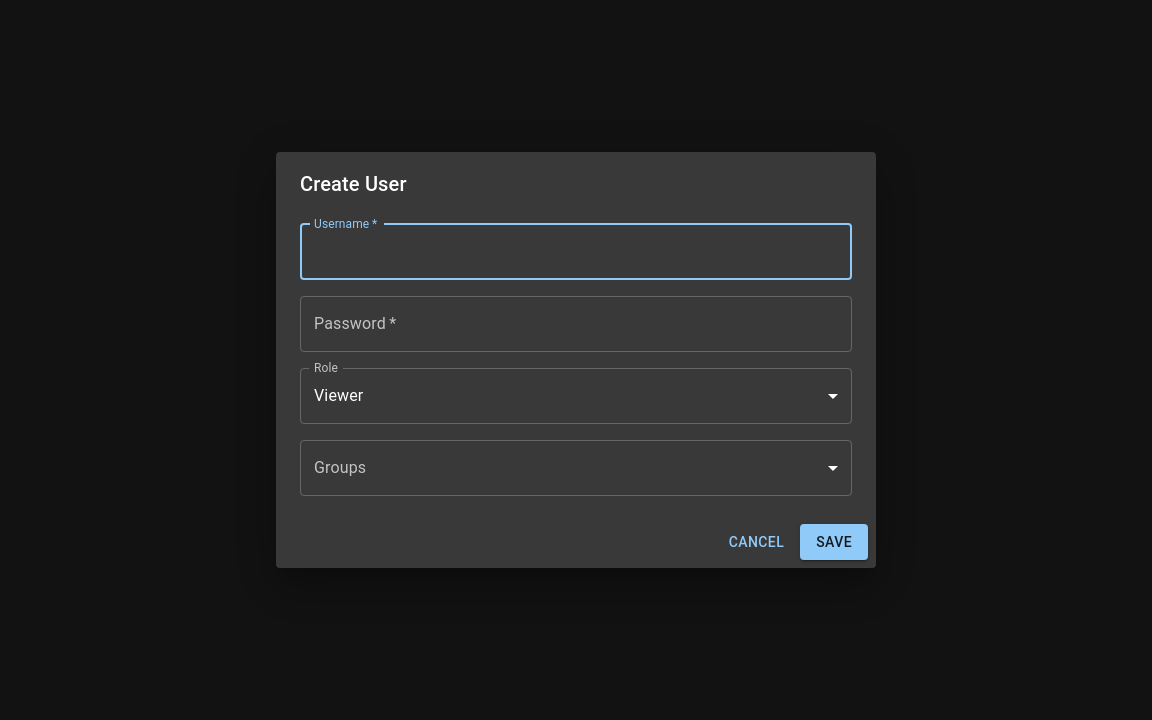
UserDialog › Create mode › shows validation error when name is empty
Click the button "Save" at (834, 542), box [800,524,868,560]
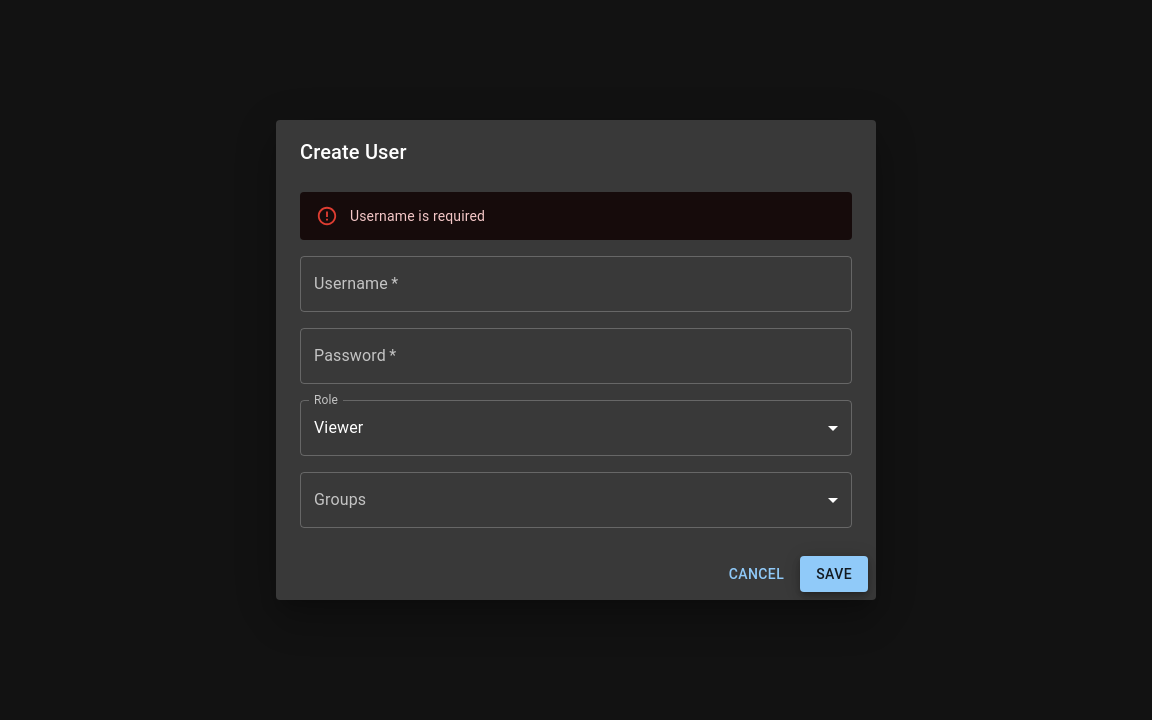
expect the text "Username is required" is shown: met, box [350,208,485,224]
